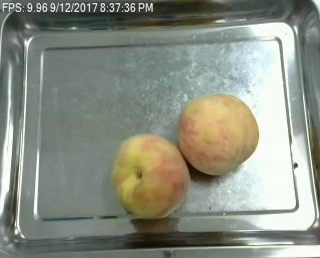Peach: (111, 133, 189, 218), (178, 94, 259, 175)
